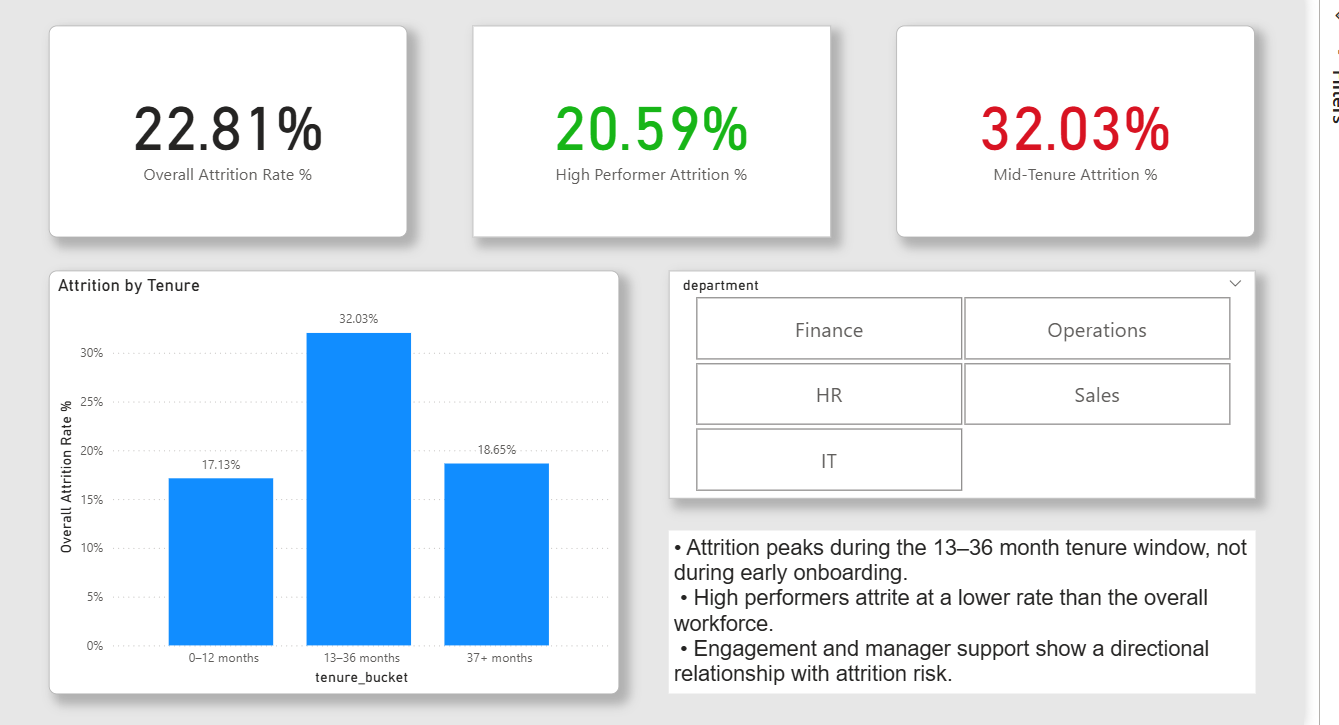

The dashboard page shown, as its layout file describes it:
{"tool":"powerbi","page":{"name":"Executive Overview","canvas":[1280,720],"ordinal":0},"visuals":[{"type":"card","fields":{"Values":["employee_base.Overall Attrition Rate %"]},"box":[48,32,352,208],"z":0},{"type":"card","fields":{"Values":["employee_base.Mid-Tenure Attrition %"]},"box":[880,32,352,208],"z":1000},{"type":"clusteredColumnChart","title":"Attrition by Tenure","fields":{"Category":["employee_base.tenure_bucket"],"Y":["employee_base.Overall Attrition Rate %"]},"box":[48,272,560,416],"z":2000},{"type":"textbox","box":[656,528,576,160],"z":3000},{"type":"slicer","fields":{"Values":["employee_base.department"]},"box":[656,272,576,224],"z":4000},{"type":"card","fields":{"Values":["employee_base.High Performer Attrition %"]},"box":[464,32,352,208],"z":5000}]}

Visuals, with their boxes on the page's 1280x720 design canvas (x1, y1, x2, y2). These are canvas units, not pixel positions in the 1339x725 screenshot, which may show the page scaled, cropped or inside an application window:
card - employee_base.Overall Attrition Rate %: region(48, 32, 400, 240)
card - employee_base.Mid-Tenure Attrition %: region(880, 32, 1232, 240)
"Attrition by Tenure" clusteredColumnChart: region(48, 272, 608, 688)
textbox: region(656, 528, 1232, 688)
slicer - employee_base.department: region(656, 272, 1232, 496)
card - employee_base.High Performer Attrition %: region(464, 32, 816, 240)
